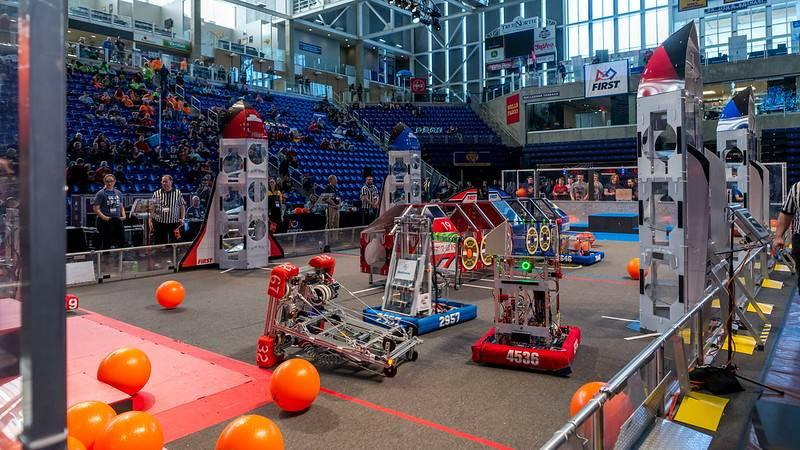robot: (254, 253, 424, 396), (468, 255, 584, 375), (373, 204, 477, 333), (542, 230, 605, 266)
